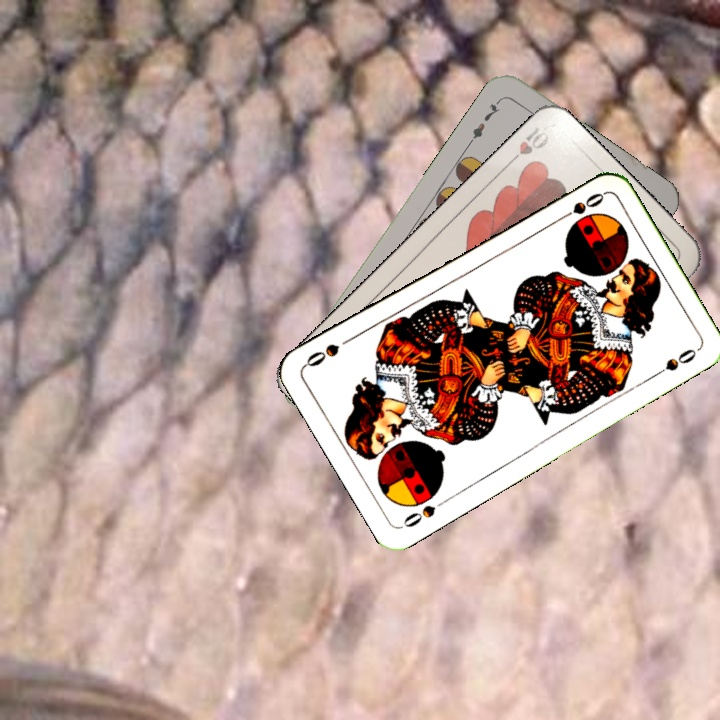E7: (465, 95, 504, 146)
H10: (502, 123, 552, 169)
SO: (552, 188, 607, 225), (397, 494, 451, 531)
